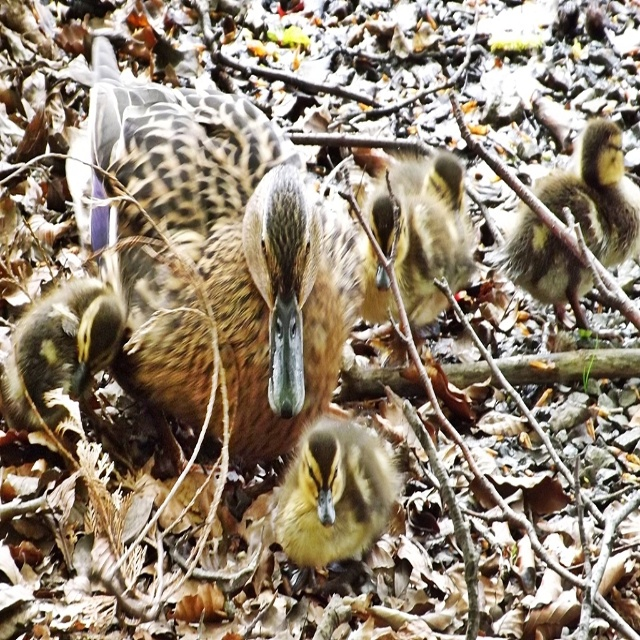Duck: (54, 28, 364, 460), (502, 115, 639, 338), (255, 394, 407, 591), (314, 145, 424, 335), (2, 260, 126, 428), (400, 142, 493, 327)
